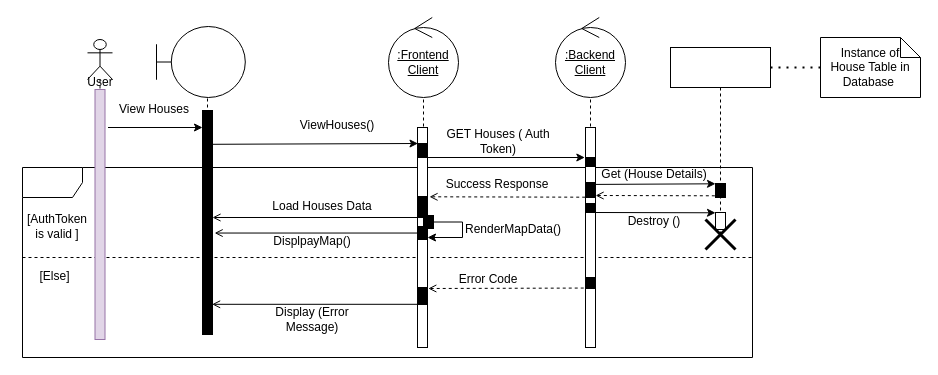
Image size: 938x375. Some labels were removed from this diagram. The shapes that lost their labels are listed below. From the top down, each one's box as (x1, y1, x2, y2) in pixels, then its label:
(156, 26, 245, 98): :HousesUI
(670, 46, 770, 238): :House
(22, 166, 752, 358): alt
